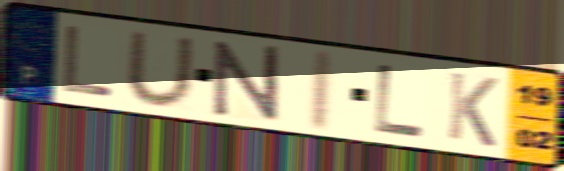I: (305, 47, 337, 134)
K: (445, 69, 501, 150)
L: (371, 61, 429, 140), (60, 22, 116, 100)
N: (211, 39, 282, 124)
U: (123, 30, 198, 111)
